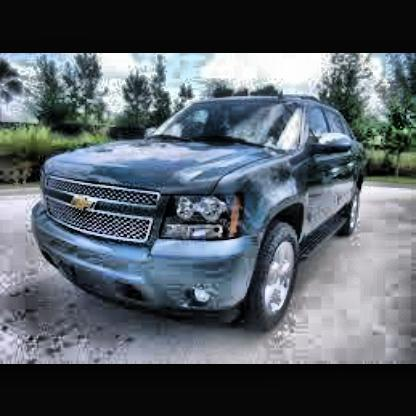Chevrolet Avalanche Crew Cab 2012: (30, 94, 370, 339)
